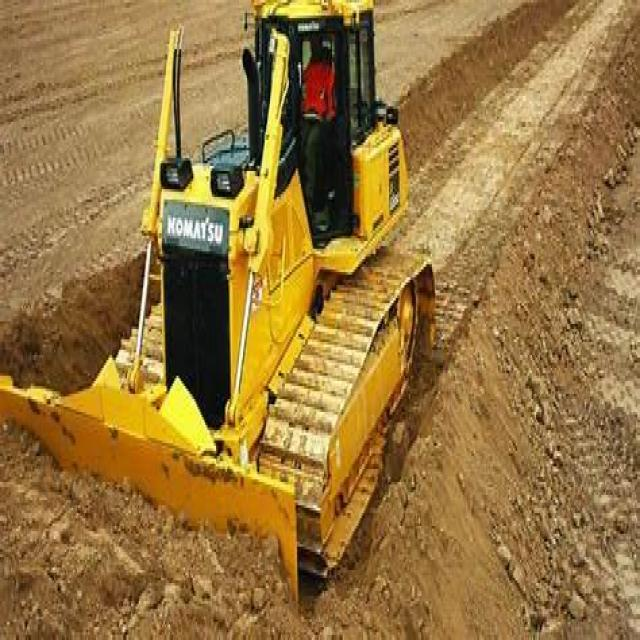Bulldozer: (11, 10, 487, 638)
